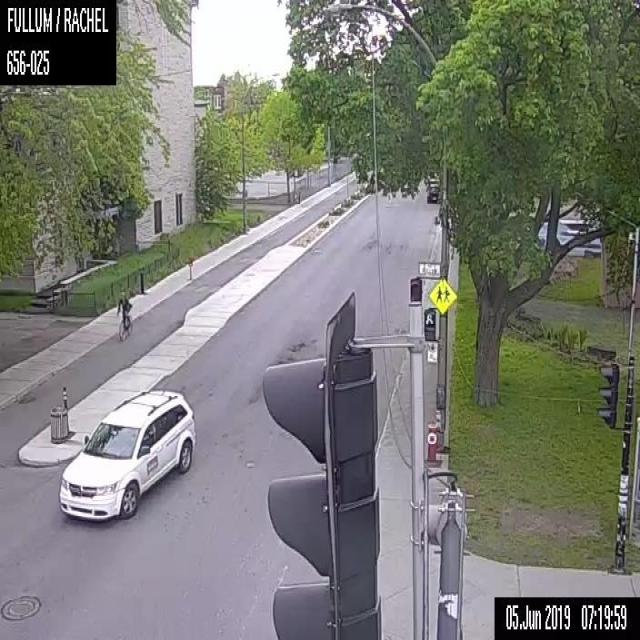cyclist: (116, 293, 132, 339)
vehicle: (58, 389, 195, 521), (426, 183, 440, 202)
